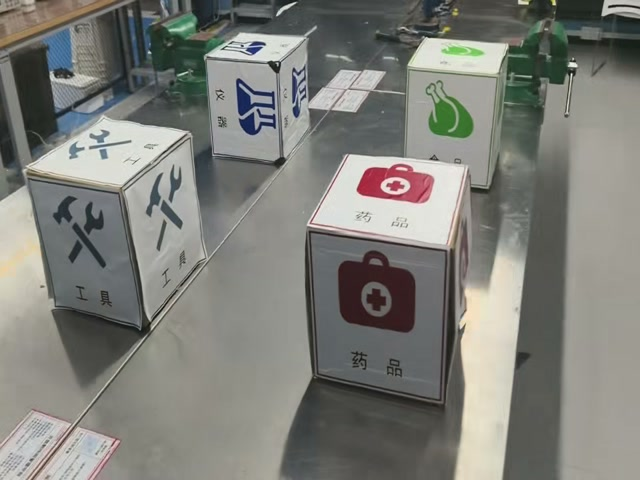Cube_food: (408, 39, 507, 79)
Cube_ins: (206, 33, 307, 61)
Cube_medicine: (307, 155, 468, 249)
Cube_tool: (27, 118, 190, 192)
